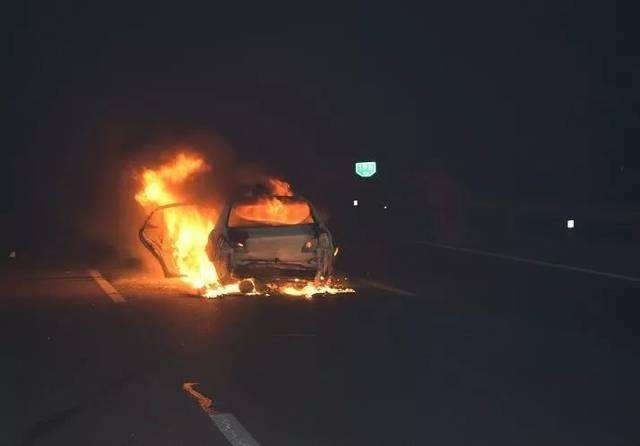fire: (131, 149, 245, 301)
